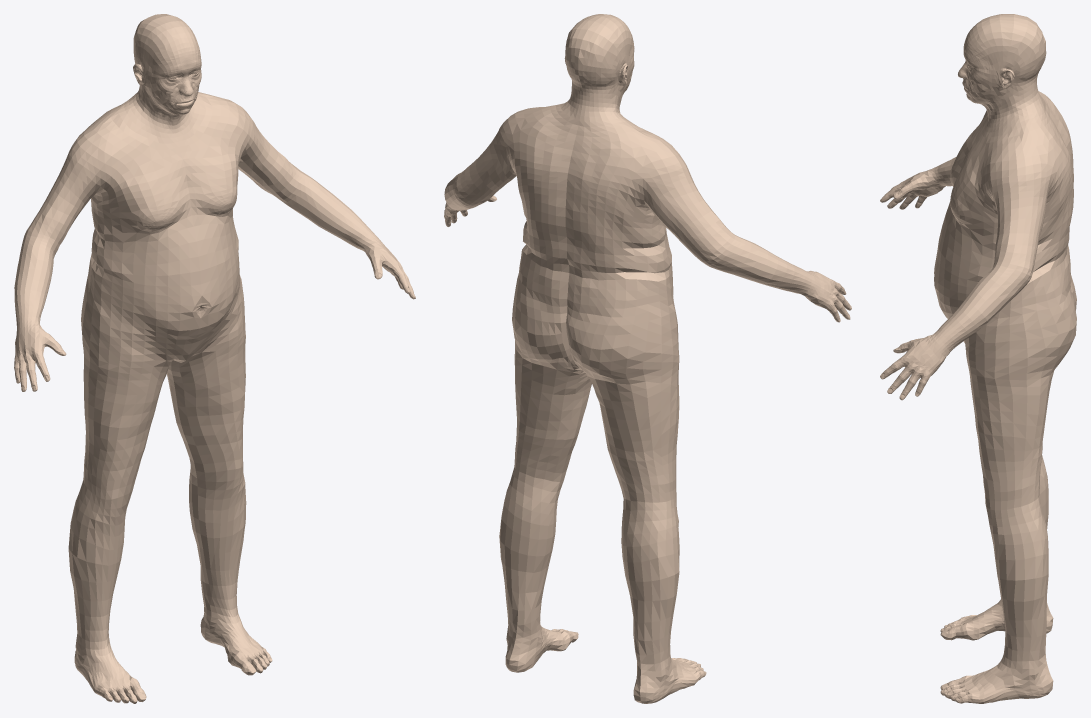
Rendered from male-older-max-low.glb.
3 renders of one model, left to right at view 1: azimuth 30°, elevation 25°; view 2: azimuth 150°, elevation 25°; view 3: azimuth 270°, elevation 25°, orthographic.
Parts seen in each view (by area): view 1: world; view 2: world; view 3: world.
Boxes of the visible parts, box(x1,y1,x2,y2) form: world: box(14, 14, 415, 703); world: box(444, 14, 851, 703); world: box(880, 14, 1076, 703).
Size of the model in its own units: 1.22 by 1.93 by 0.5309.
